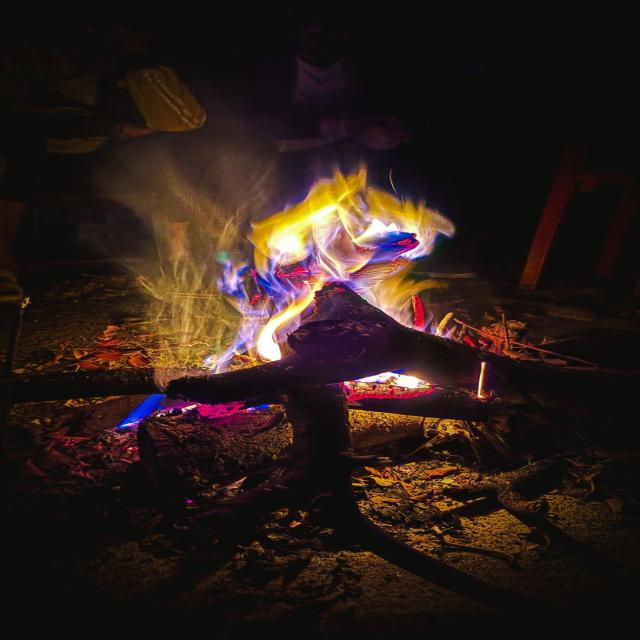fire: (198, 160, 459, 376)
